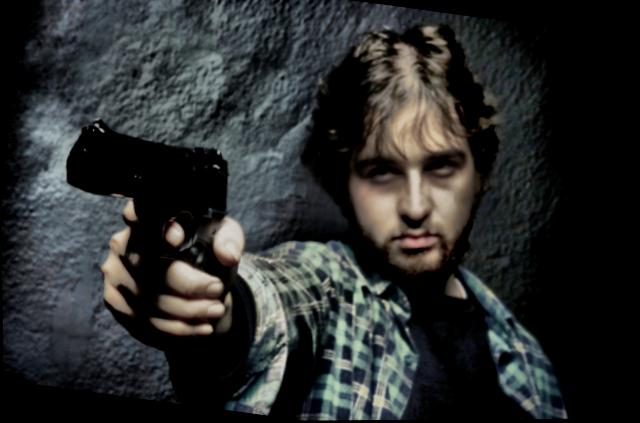pistol: (46, 110, 247, 286)
